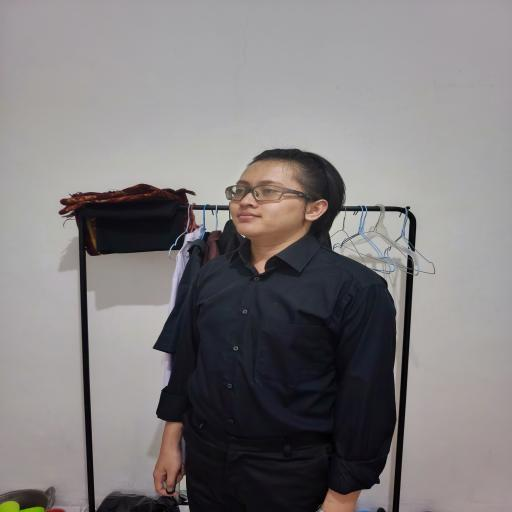celana_benar: (182, 436, 356, 512)
kemeja_salah: (152, 261, 410, 440)
